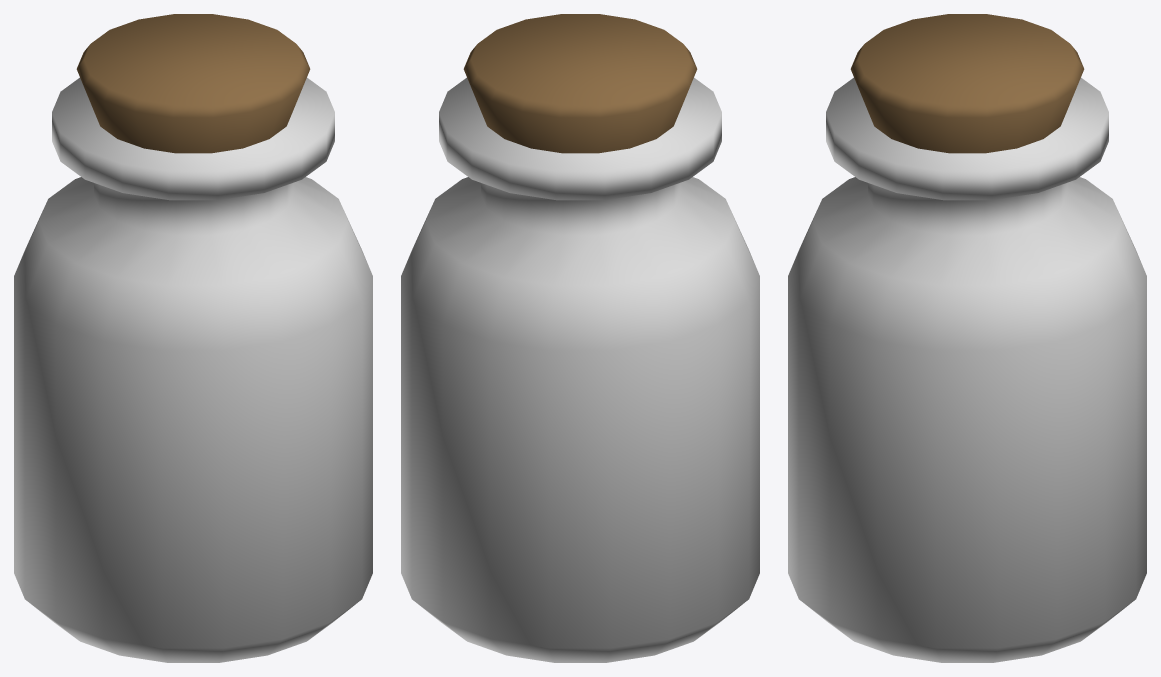
Rendered from GreenPotion.fbx.
3 views of the same model, side by side, from view 1: azimuth 30°, elevation 25°; view 2: azimuth 150°, elevation 25°; view 3: azimuth 270°, elevation 25° (orthographic).
Parts seen in each view (by area): view 1: Green; view 2: Green; view 3: Green.
Part boxes in pixels (x1=…): Green: x1=14, y1=14, x2=372, y2=662; Green: x1=401, y1=14, x2=759, y2=662; Green: x1=788, y1=14, x2=1146, y2=662.
Bounding box in the file's own units: 77.18 × 78.37 × 131.
